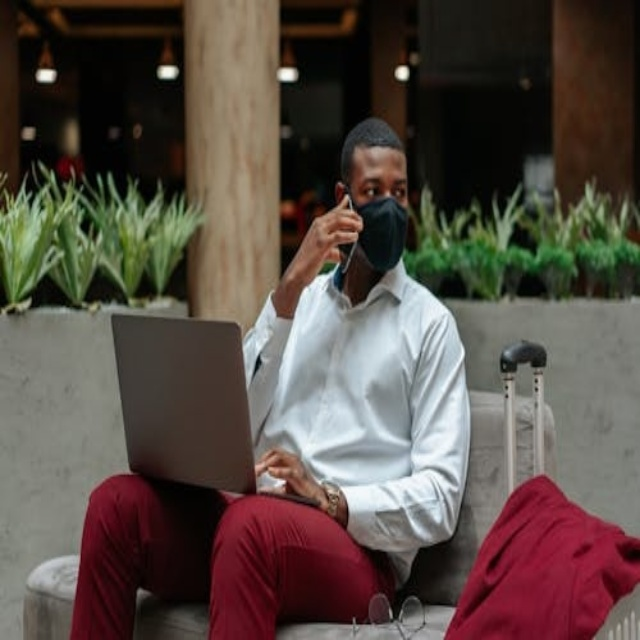Mascara: (342, 186, 408, 273)
Sin_gafas: (356, 169, 407, 200)
Sin_guantes: (288, 192, 364, 290), (255, 438, 325, 509)
